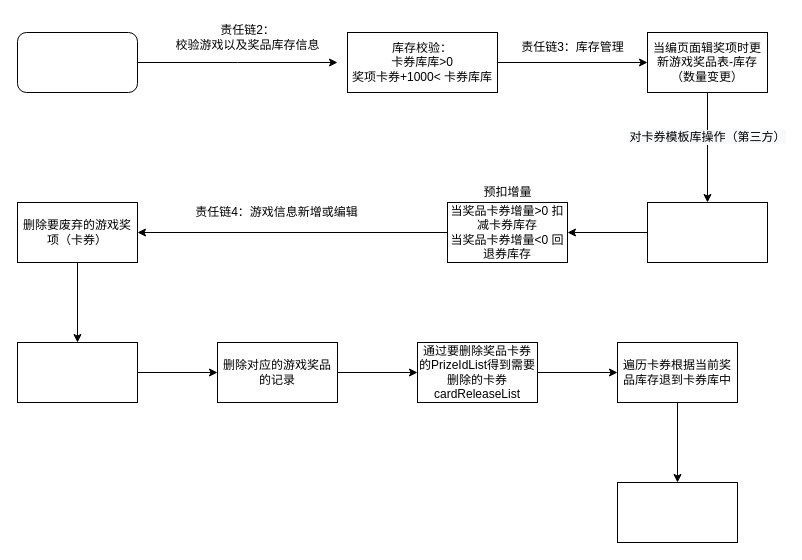
This 802x560 diagram has some shape labels left out. Here are the shapes that lost their labels. From the top down, the centre of each, then its label:
At (x=77, y=62): "初始化盲盒游戏".
At (x=707, y=232): "编辑时卡券失效退回卡券库".
At (x=77, y=372): "原始的奖项不包含现有的奖项--删除".
At (x=677, y=512): "保存/更新游戏奖品表".
